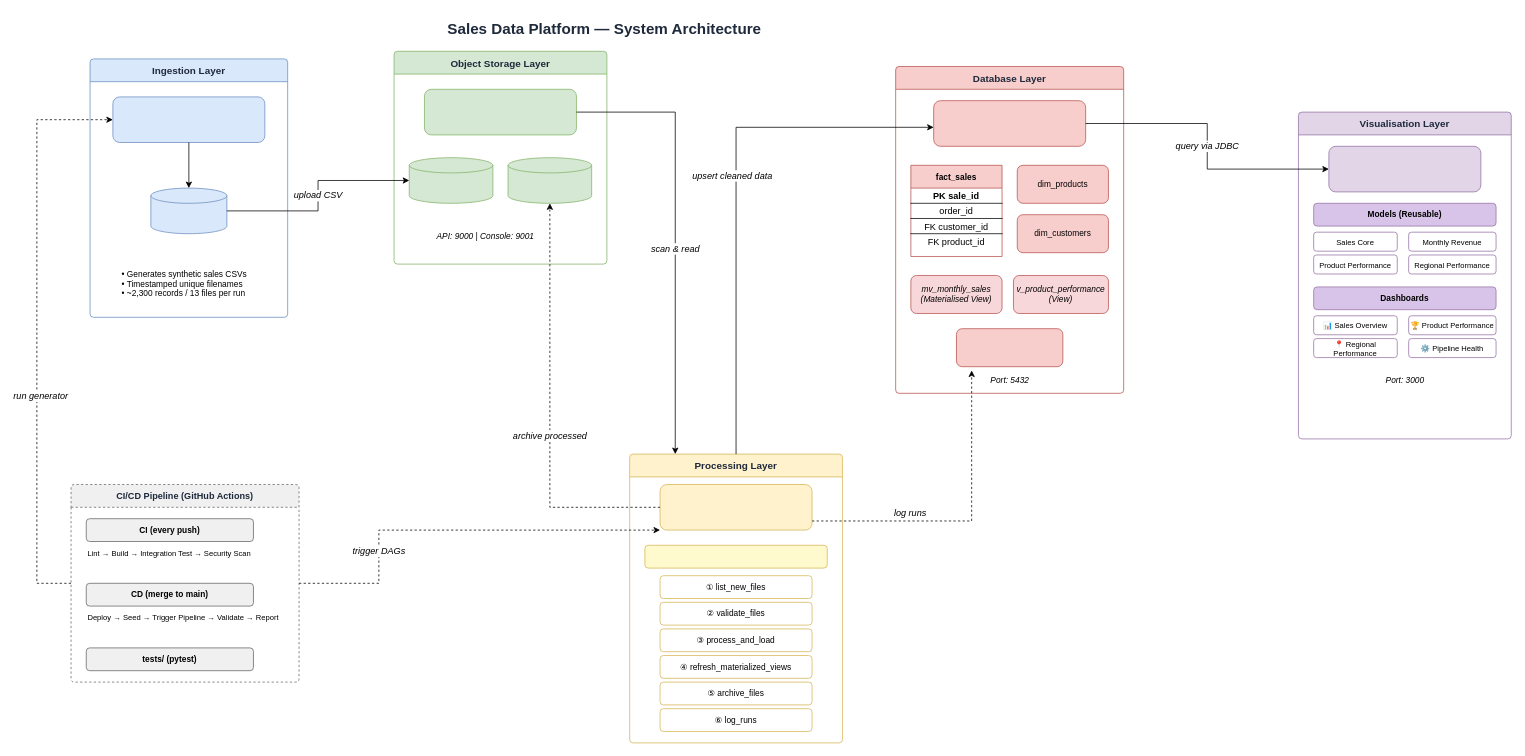
Some shapes in this 1525 by 756 pixel diagram are drawn without their labels. The centre of each missing label's shape, as x and y in pixels:
"Apache Airflow 2.8 (Orchestrator)" belongs at (x=735, y=507).
"CSV Files" belongs at (x=188, y=210).
"Data Generator (Python + Faker)" belongs at (x=188, y=119).
"Metabase (BI & Dashboards)" belongs at (x=1404, y=169).
"MinIO (S3-Compatible)" belongs at (x=500, y=112).
"pipeline_runs (Audit Log)" belongs at (x=1009, y=347).
"PostgreSQL 15 (Data Warehouse)" belongs at (x=1009, y=123).
"processed-data/ archive/" belongs at (x=549, y=180).
"sales-data/raw/" belongs at (x=450, y=180).
"sales_pipeline DAG" belongs at (x=735, y=556).
